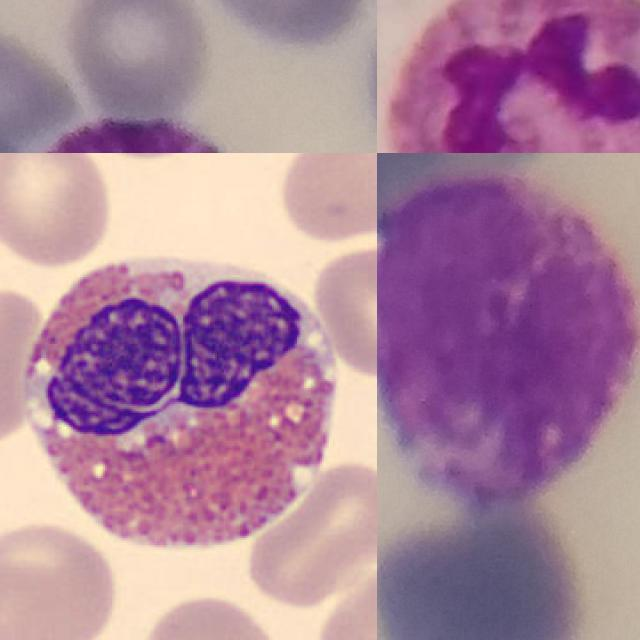Basophil: (377, 170, 640, 508)
Eosinophil: (4, 238, 349, 570)
Neutrophil: (390, 0, 640, 153)
RBC: (241, 456, 377, 608), (0, 518, 121, 640), (0, 153, 117, 271), (275, 153, 377, 247), (311, 241, 377, 381), (136, 591, 284, 640), (309, 560, 377, 640)
